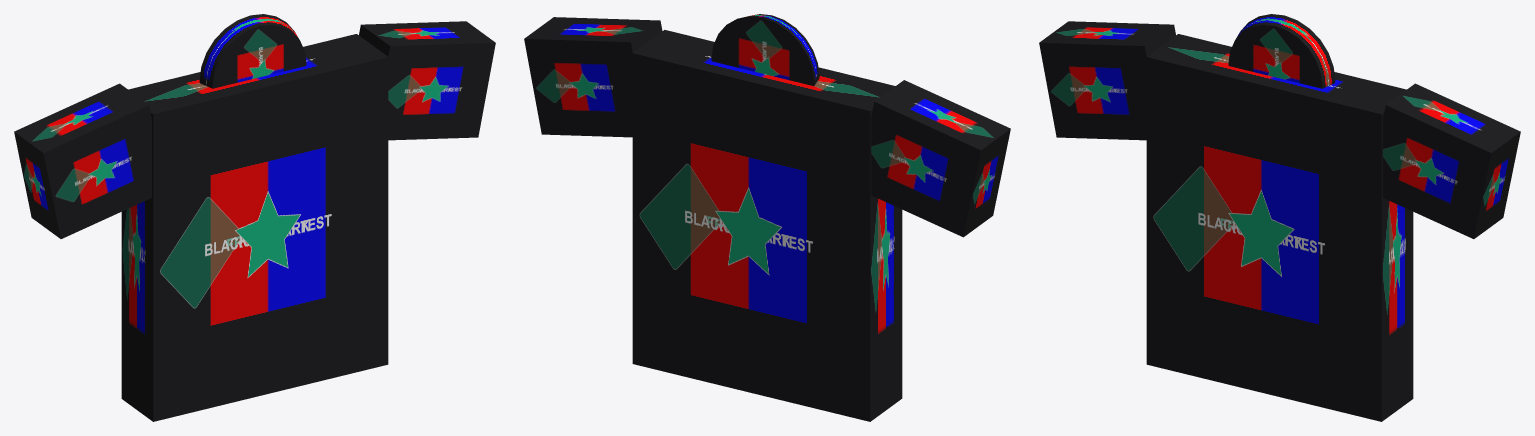
The model's file is blackbullet-test-4096.glb.
3 views of the same model, side by side, from view 1: azimuth 30°, elevation 25°; view 2: azimuth 150°, elevation 25°; view 3: azimuth 330°, elevation 25° (orthographic).
Visible parts, largest first — view 1: Body_Main, Sleeve_Left, Sleeve_Right, Collar_Rib; view 2: Body_Main, Sleeve_Left, Sleeve_Right, Collar_Rib; view 3: Body_Main, Sleeve_Right, Sleeve_Left, Collar_Rib.
Part boxes in pixels (bbox=[...]): Body_Main: bbox=[121, 34, 388, 421]; Sleeve_Left: bbox=[14, 83, 151, 238]; Sleeve_Right: bbox=[359, 21, 495, 140]; Collar_Rib: bbox=[199, 14, 306, 88]; Body_Main: bbox=[632, 30, 902, 421]; Sleeve_Left: bbox=[871, 80, 1010, 237]; Sleeve_Right: bbox=[524, 17, 662, 137]; Collar_Rib: bbox=[711, 14, 819, 85]; Body_Main: bbox=[1146, 34, 1413, 421]; Sleeve_Right: bbox=[1383, 83, 1520, 238]; Sleeve_Left: bbox=[1039, 21, 1175, 140]; Collar_Rib: bbox=[1228, 14, 1335, 88].
Size of the model in its own units: 2.31 by 1.77 by 0.28.
1 material, 1 textured.
